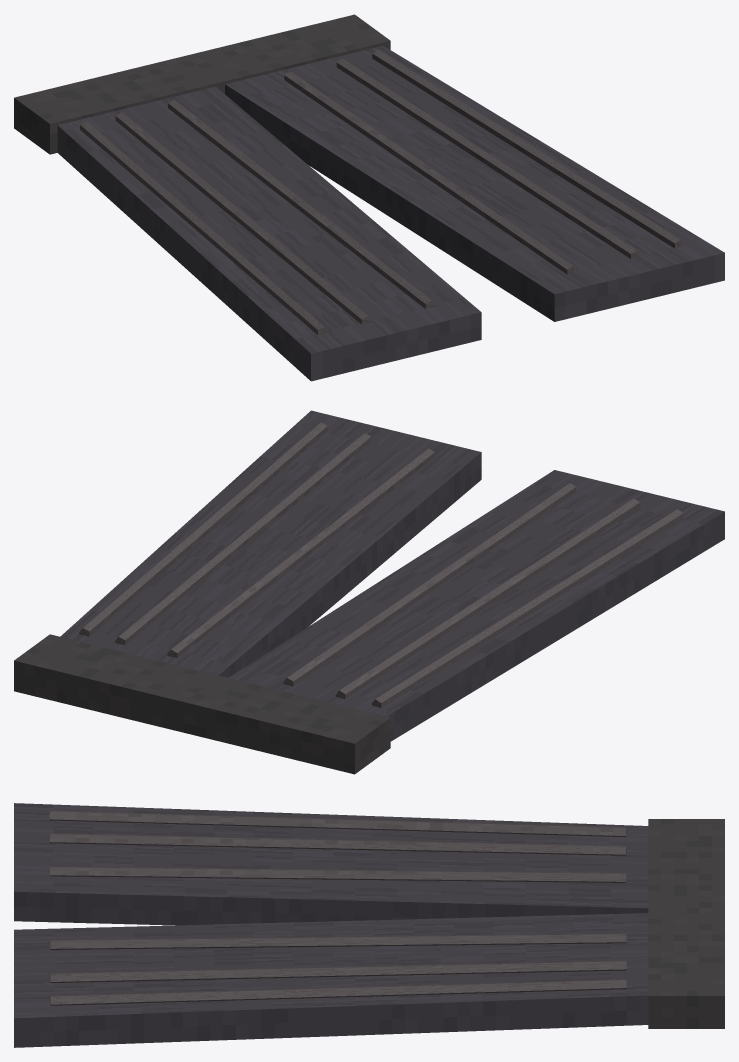
Rendered from hakama_gi.glb.
3 renders of one model, top to bottom at view 1: azimuth 30°, elevation 25°; view 2: azimuth 150°, elevation 25°; view 3: azimuth 270°, elevation 25°, orthographic. The views are drawn at different scales.
Parts seen in each view (by area): view 1: block_trouser leg (×2), block_pressed fabric pleat 0 (×6), block_waist band; view 2: block_trouser leg (×2), block_waist band, block_pressed fabric pleat 0 (×6); view 3: block_trouser leg (×2), block_pressed fabric pleat 0 (×6), block_waist band.
Boxes of the visible parts, x1,y1,x2,y2 form: block_trouser leg (×2): [57, 45, 724, 381]; block_pressed fabric pleat 0 (×6): [80, 50, 684, 335]; block_waist band: [14, 14, 390, 154]; block_trouser leg (×2): [60, 410, 724, 741]; block_waist band: [14, 634, 390, 774]; block_pressed fabric pleat 0 (×6): [79, 422, 683, 707]; block_trouser leg (×2): [14, 803, 648, 1047]; block_pressed fabric pleat 0 (×6): [49, 810, 626, 1005]; block_waist band: [648, 819, 724, 1028].
Size of the model in its own units: 0.3524 by 0.0284 by 0.492.
Materials: 1 (1 with a texture image).
